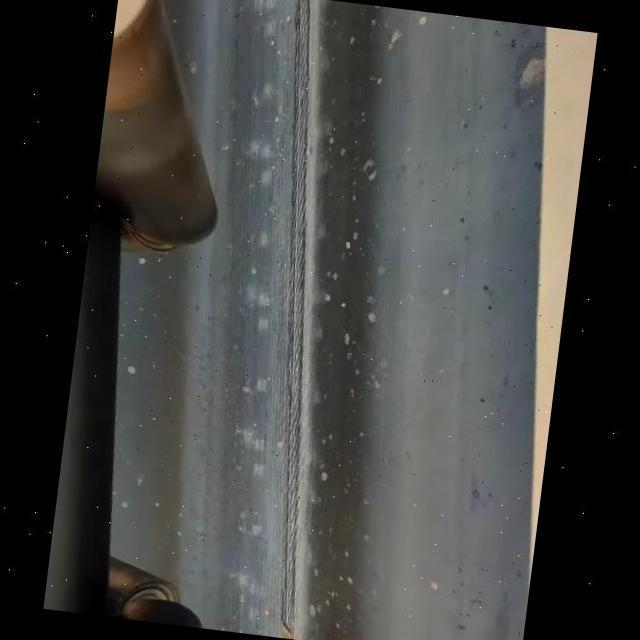Wear: (266, 0, 316, 640)
